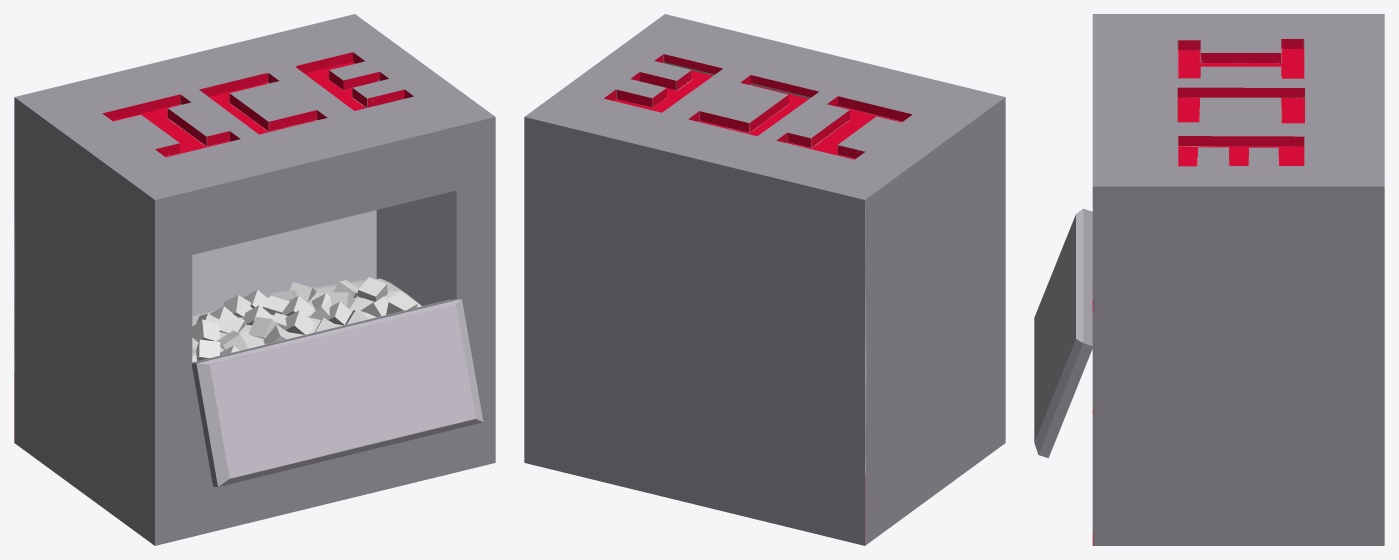
Rendered from icebox.fbx.
3 renders of one model, left to right at view 1: azimuth 30°, elevation 25°; view 2: azimuth 150°, elevation 25°; view 3: azimuth 270°, elevation 25°, orthographic. The views are drawn at different scales.
Parts seen in each view (by area): view 1: wholeBox, door, Ice layer; view 2: wholeBox; view 3: wholeBox, door.
Part boxes in pixels (x1=…): wholeBox: x1=14, y1=14, x2=495, y2=545; door: x1=192, y1=298, x2=483, y2=486; Ice layer: x1=192, y1=278, x2=421, y2=362; wholeBox: x1=524, y1=14, x2=1005, y2=545; wholeBox: x1=1092, y1=14, x2=1384, y2=545; door: x1=1034, y1=208, x2=1092, y2=458.
Bounding box in the file's own units: 1412 × 1370 × 1211.
Materials: 2 (2 with a texture image).
